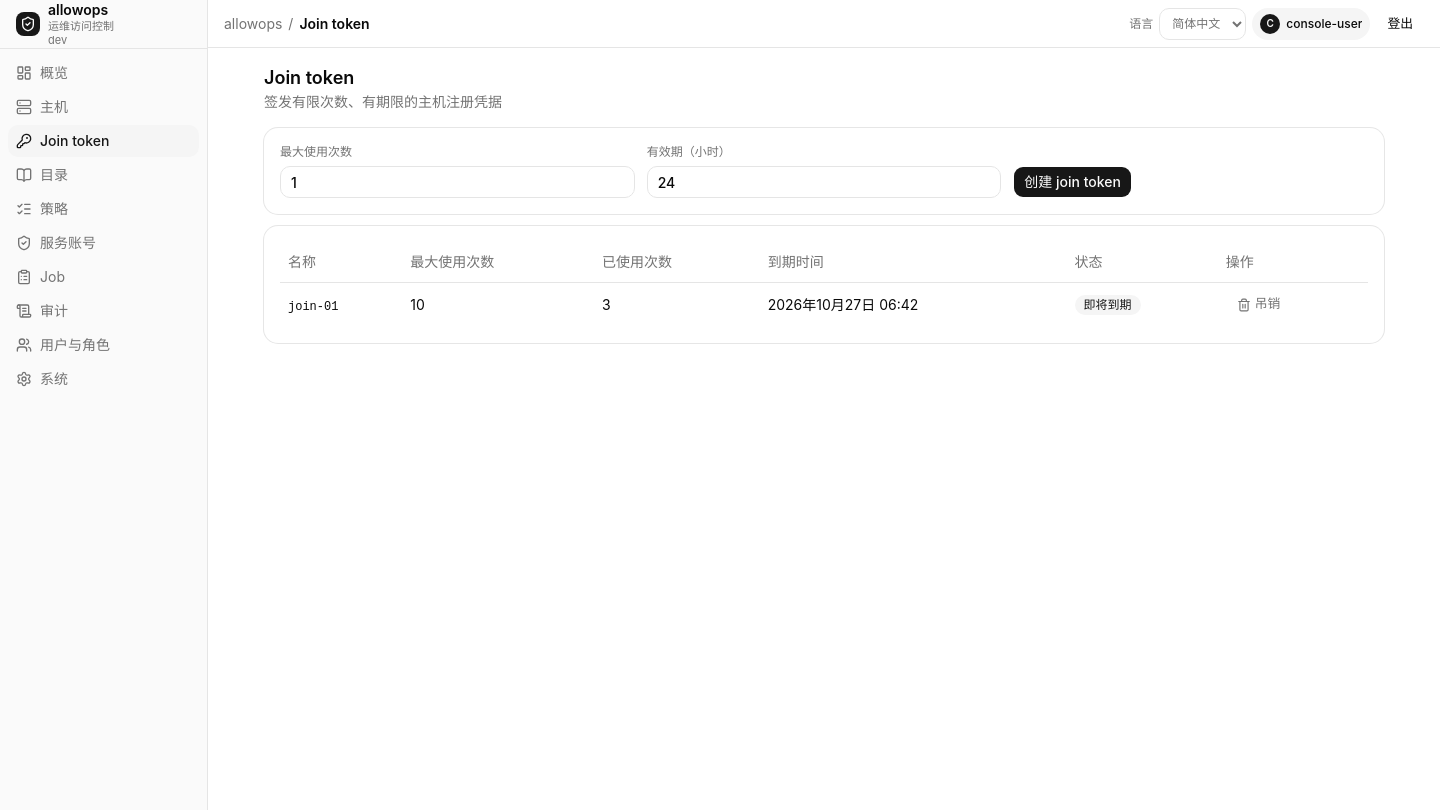
Test: console mutation workflows › revokes a join token after confirmation
This screenshot has width=1440, height=810.
Check: the heading "Join token" is shown, box [264,67,354,88]
Click the button "吊销": (1258,304) [1226,290,1291,318]
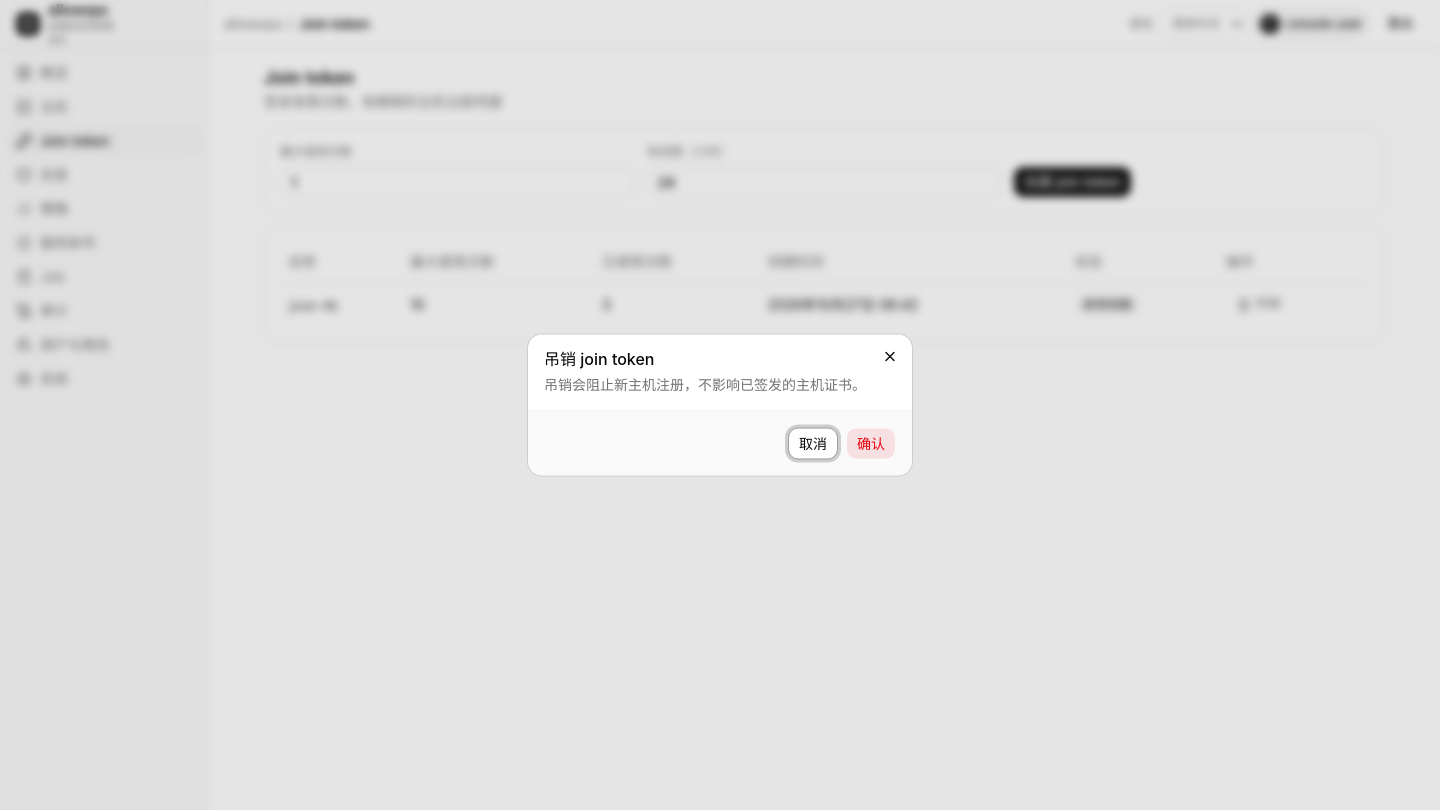
Click the button "确认": (871,444) [846,428,896,460]
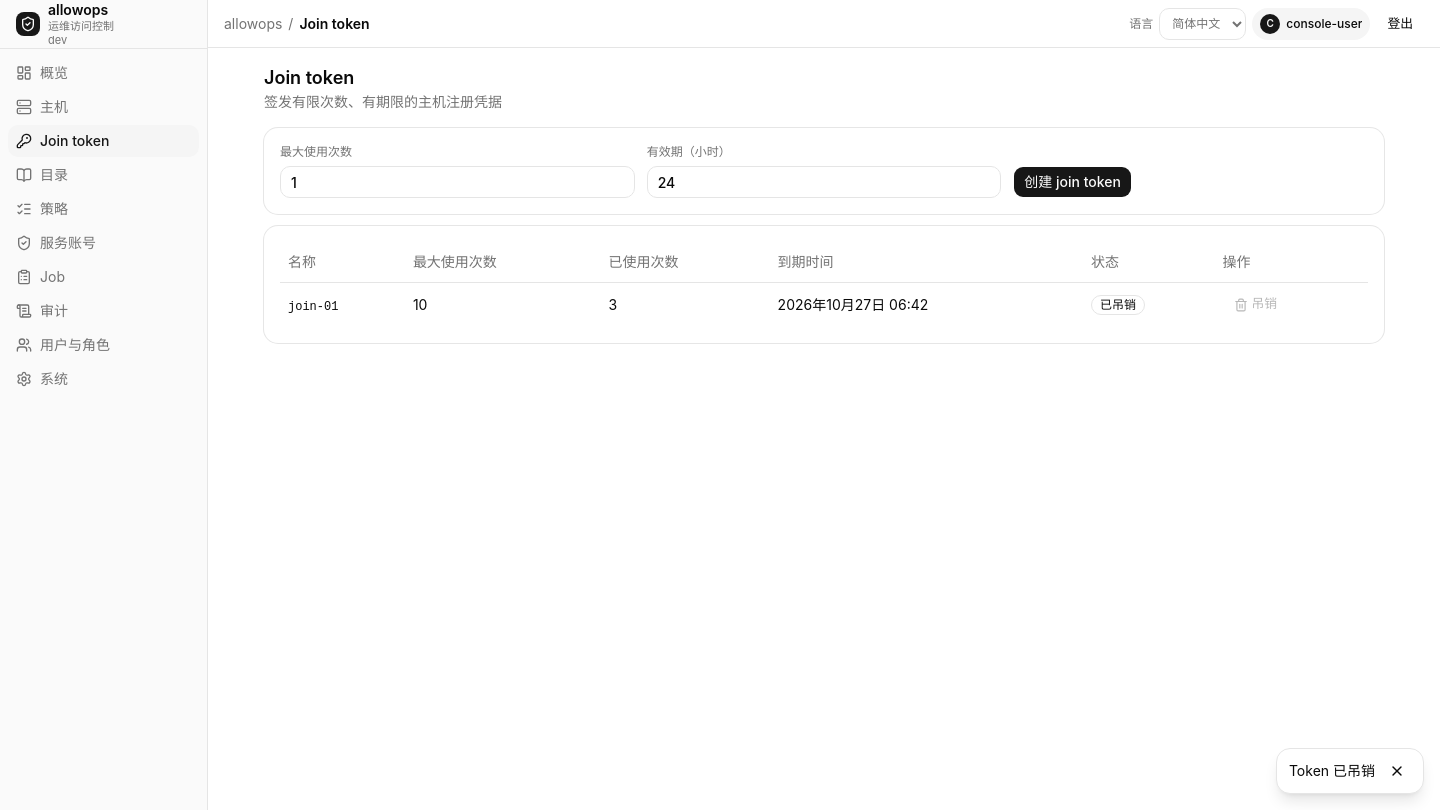
Check: the message reads "Token 已吊销", box [1289,762,1375,779]
